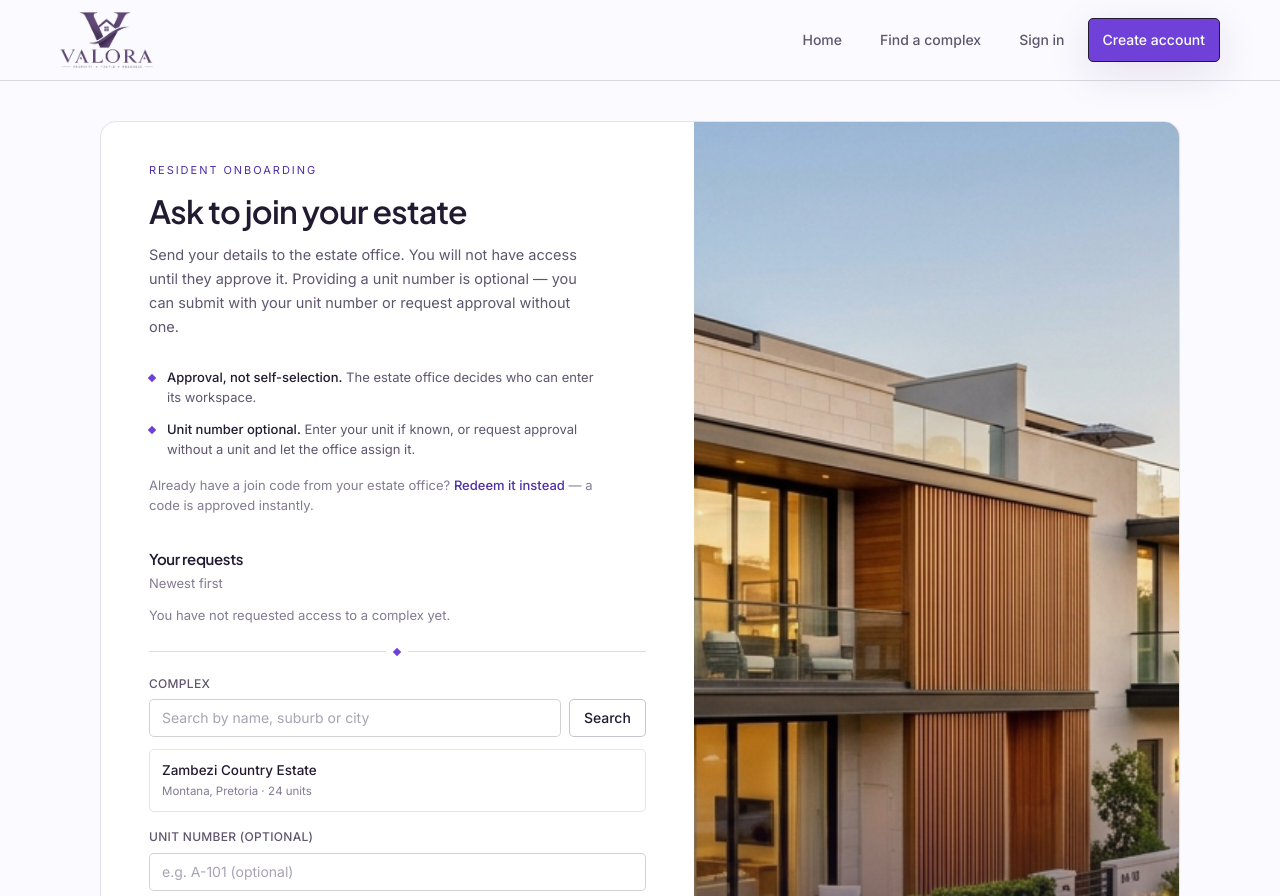
RequestAccess › shows a duplicate request as the server’s own refusal
Click the button "Zambezi Country Estate Montana, Pretoria · 24 units": click(239, 770) [149,750,646,812]
(page scrolled)
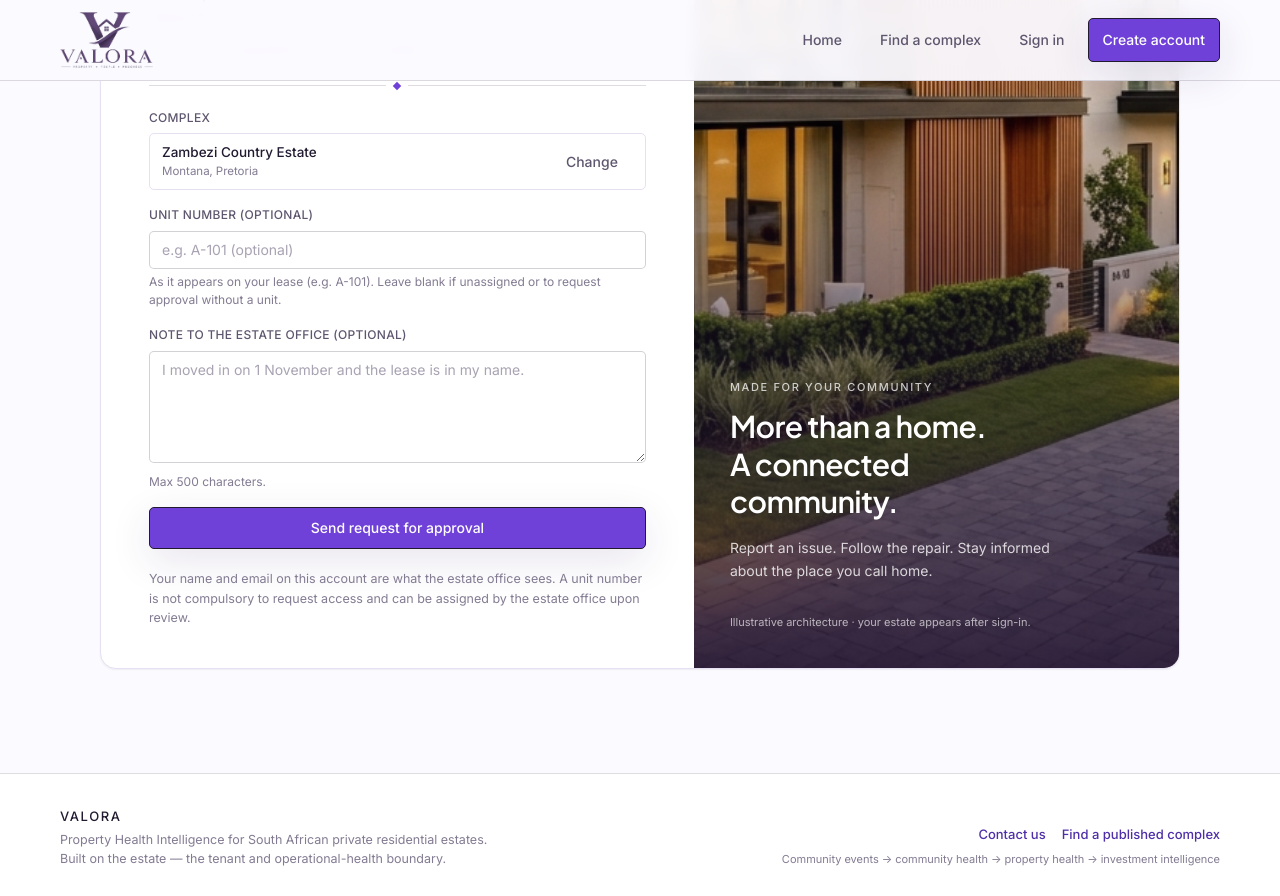
Click the button "Send request for approval": click(397, 528) [149,507,646,549]
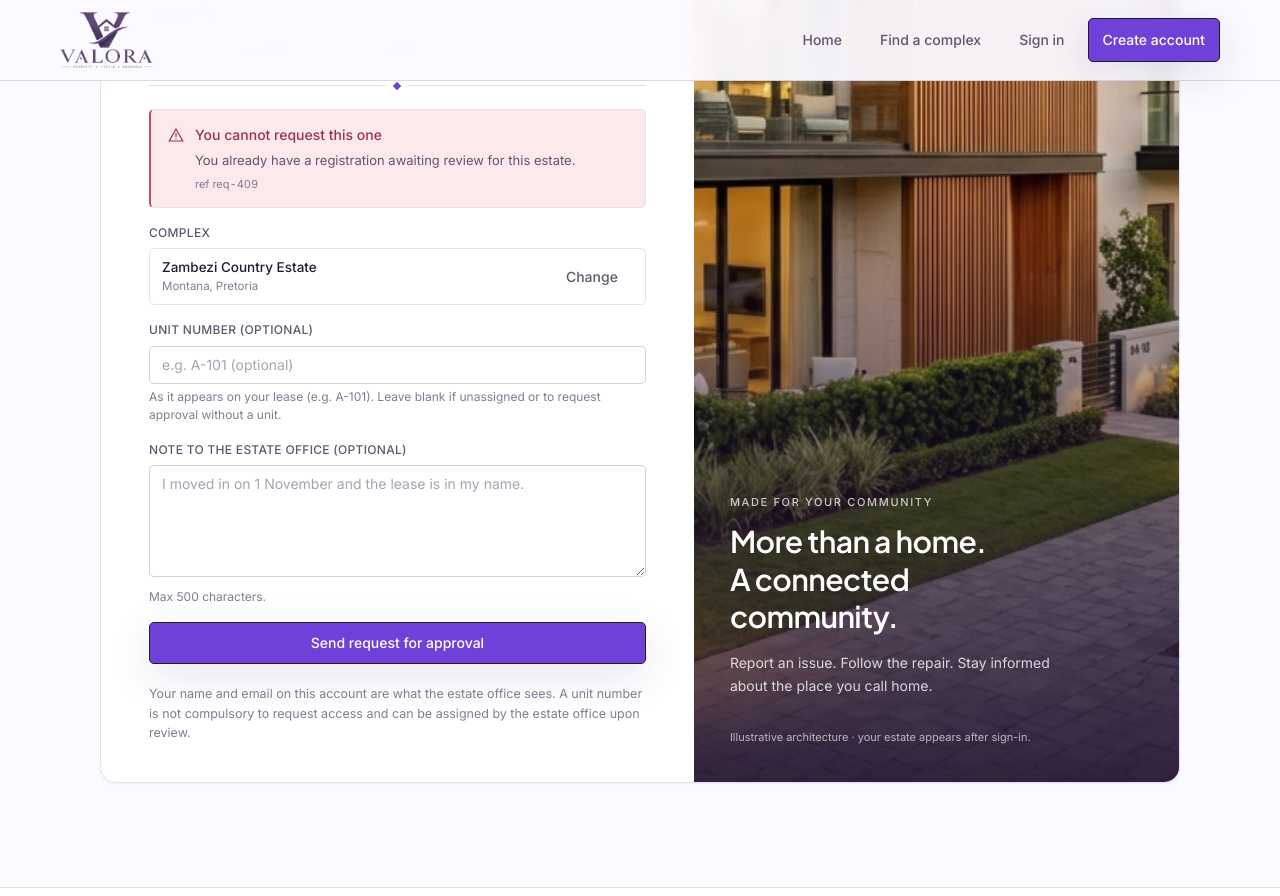
Expected: the text "You cannot request this one" is shown, [195,126,382,143]
Expected: the text "already have a registration awaiting review" is shown, [195,152,575,168]
Expected: the text "ref req-409" is shown, [195,177,258,191]
